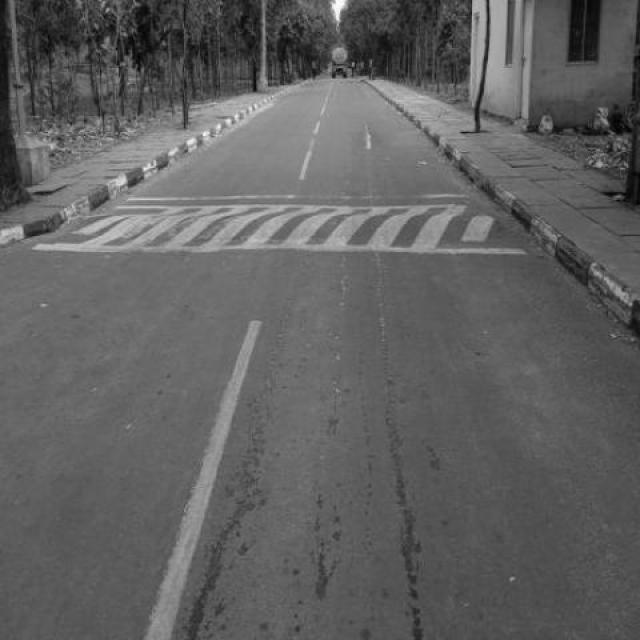Speed Bump: (34, 190, 534, 250)
